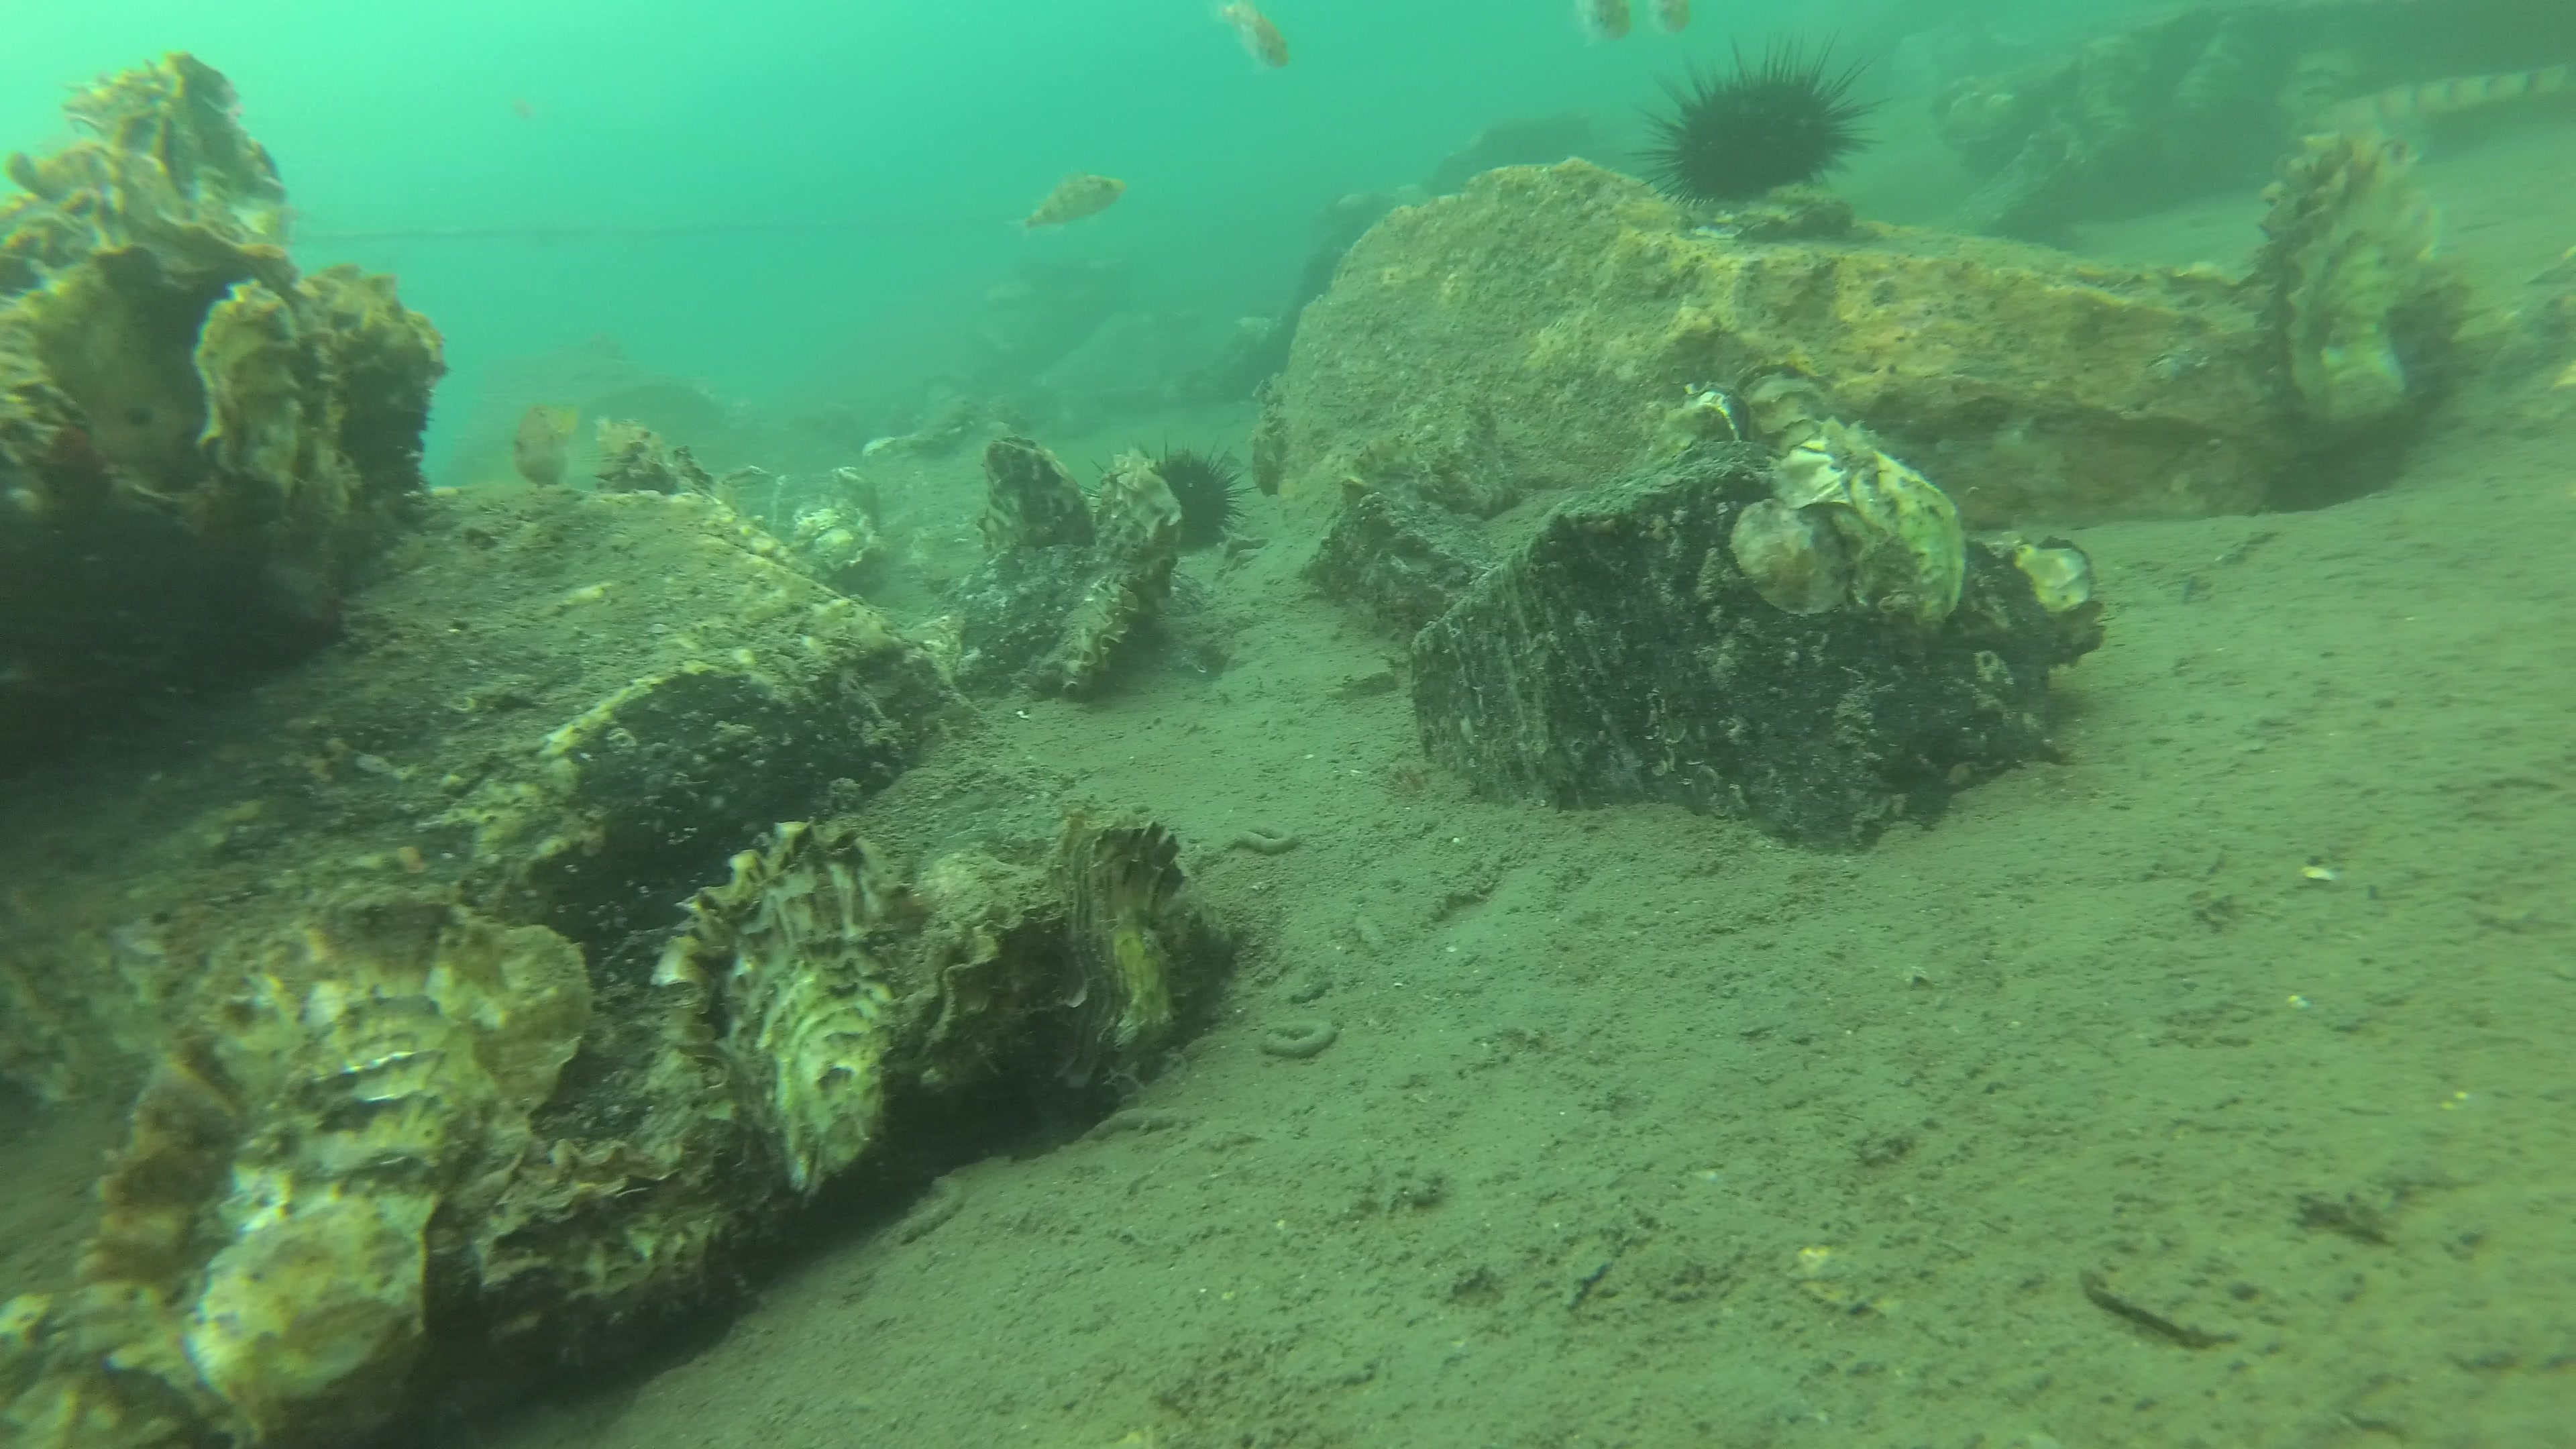echinus: (1617, 27, 1891, 211), (1083, 432, 1256, 554)
